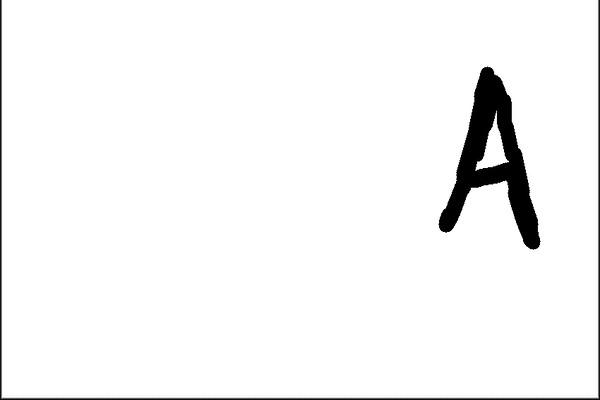A: (431, 54, 545, 257)
